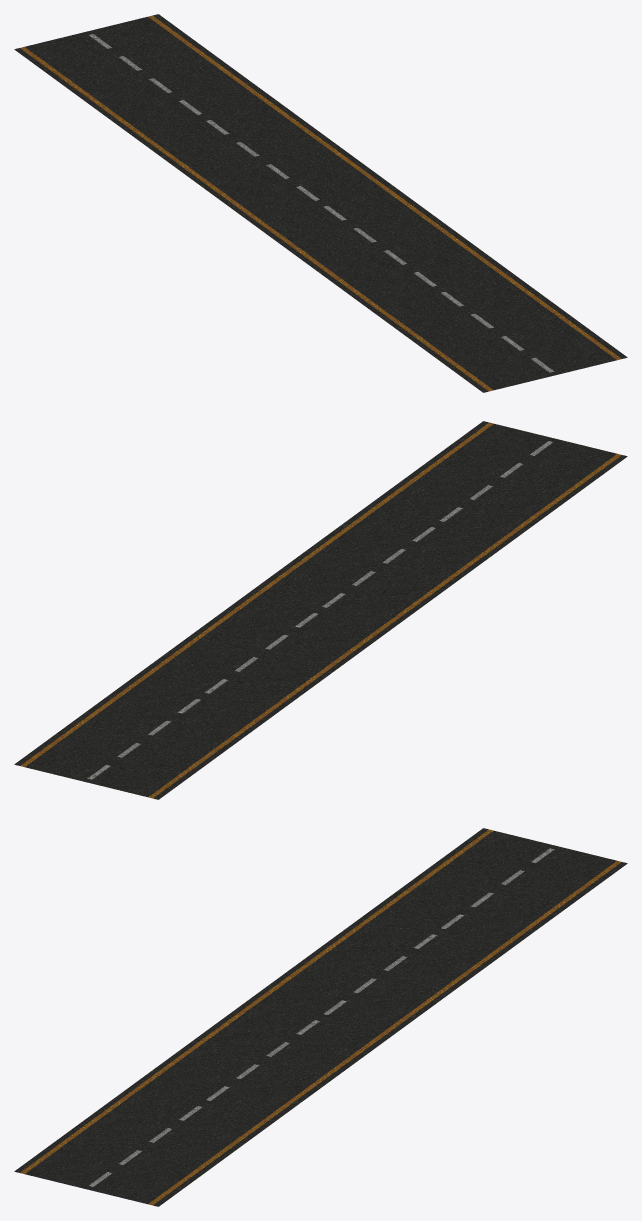
File: road.fbx
3 renders of one model, top to bottom at view 1: azimuth 30°, elevation 25°; view 2: azimuth 150°, elevation 25°; view 3: azimuth 330°, elevation 25°, orthographic.
Visible parts, largest first — view 1: road.001; view 2: road.001; view 3: road.001.
Part boxes in pixels (x1,y1,x2,y2): road.001: [14, 14, 627, 392]; road.001: [14, 421, 627, 799]; road.001: [14, 828, 627, 1206].
Size of the model in its own units: 1365 by 0 by 7671.
1 material, 1 textured.
